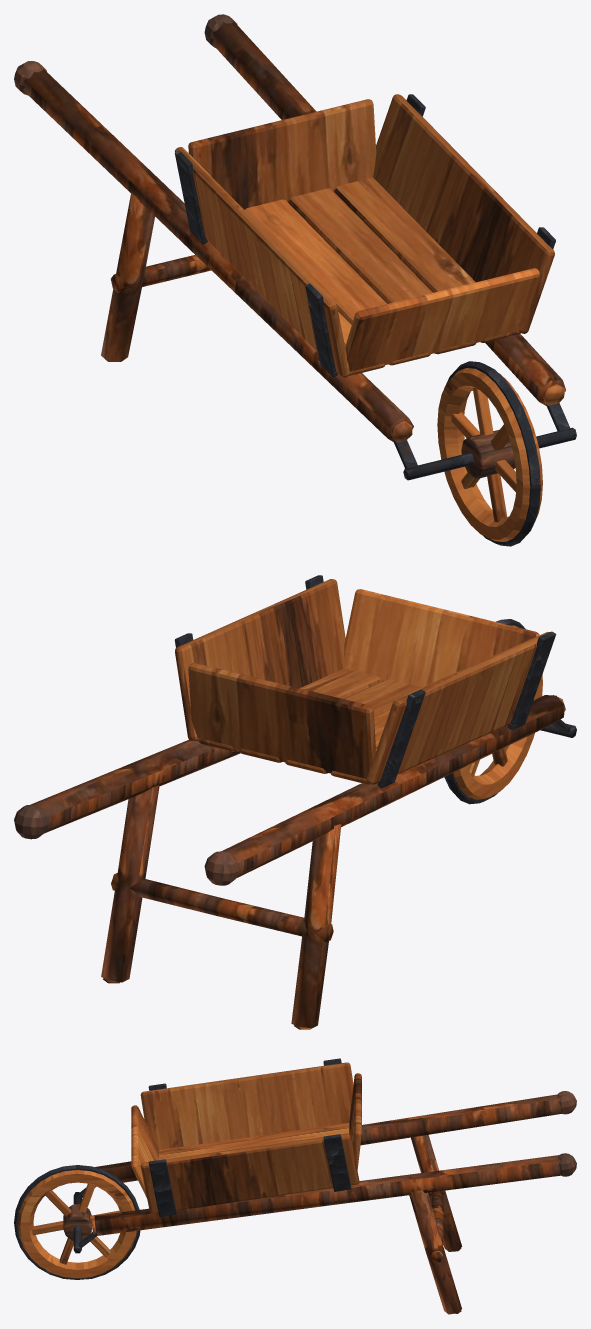
The model's file is mg_wheelbarrow.glb.
The picture shows the model from 3 angles, top to bottom: view 1: azimuth 30°, elevation 25°; view 2: azimuth 150°, elevation 25°; view 3: azimuth 270°, elevation 25°; orthographic projection. The views are drawn at different scales.
Parts seen in each view (by area): view 1: model; view 2: model; view 3: model.
Part boxes in pixels (x1,y1,x2,y2): model: (14,14,576,546); model: (14,575,576,1029); model: (14,1058,576,1314).
Size of the model in its own units: 0.6271 by 0.6856 by 1.91.
Materials: 13 (13 with a texture image).
